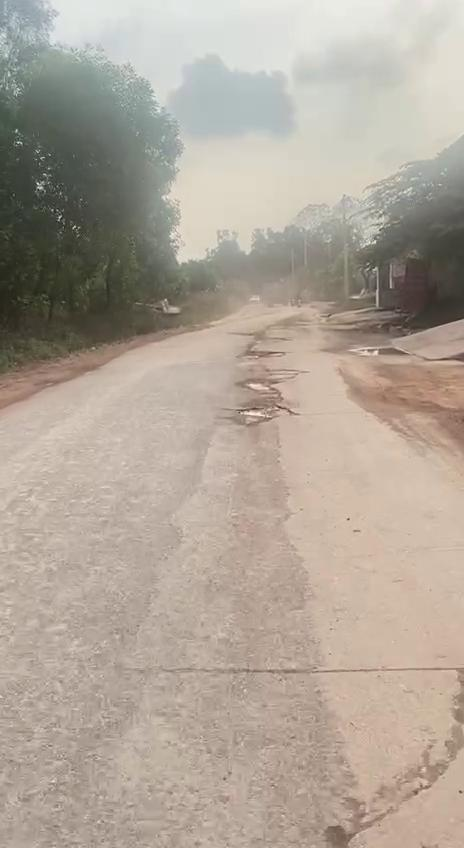pothole: (235, 403, 280, 430), (241, 375, 281, 394)
